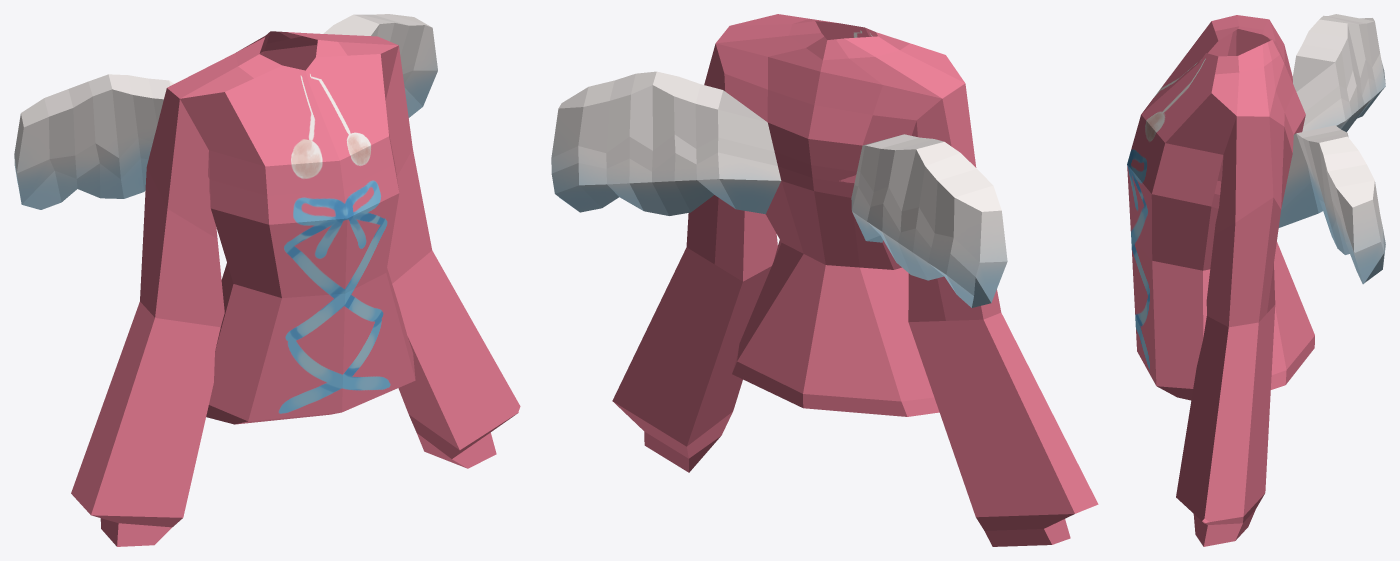
The model's file is angelsweater.fbx.
The picture shows the model from 3 angles, left to right: view 1: azimuth 30°, elevation 25°; view 2: azimuth 150°, elevation 25°; view 3: azimuth 270°, elevation 25°; orthographic projection. The views are drawn at different scales.
Visible parts, largest first — view 1: Sweater; view 2: Sweater; view 3: Sweater.
Part boxes in pixels (x1,y1,x2,y2): Sweater: [14, 14, 520, 546]; Sweater: [551, 14, 1098, 546]; Sweater: [1127, 14, 1385, 546].
Size of the model in its own units: 147 by 145 by 80.46.
